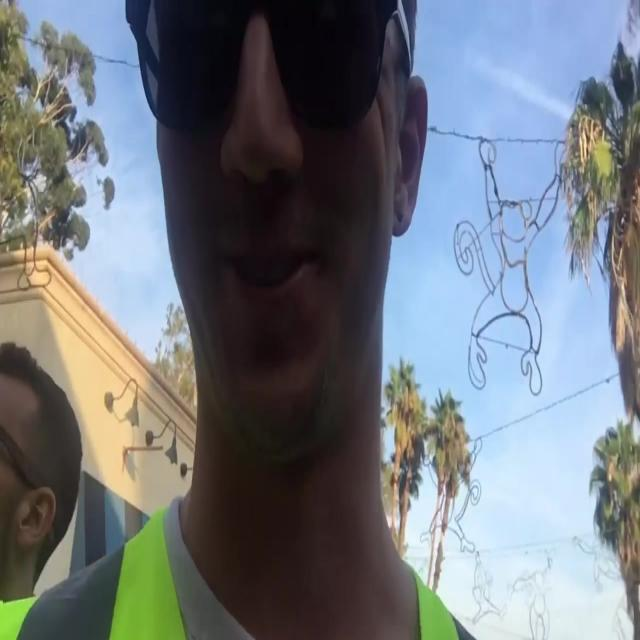Reflective-Jacket: (107, 500, 479, 640)
